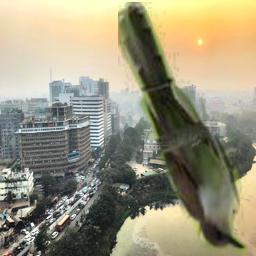Cuckoo: (118, 2, 248, 256)
